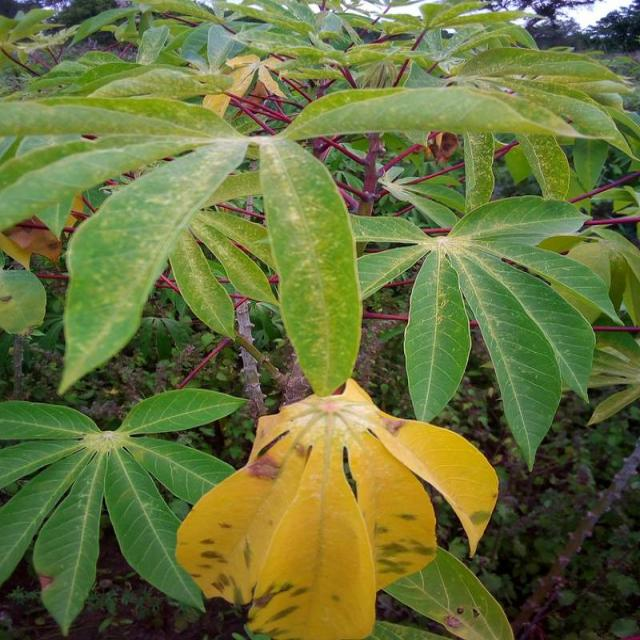cassava leaf: (1, 1, 637, 637), (175, 375, 500, 638), (56, 134, 249, 396), (257, 134, 363, 397)
